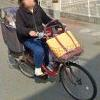bicycles: (1, 27, 97, 100)
